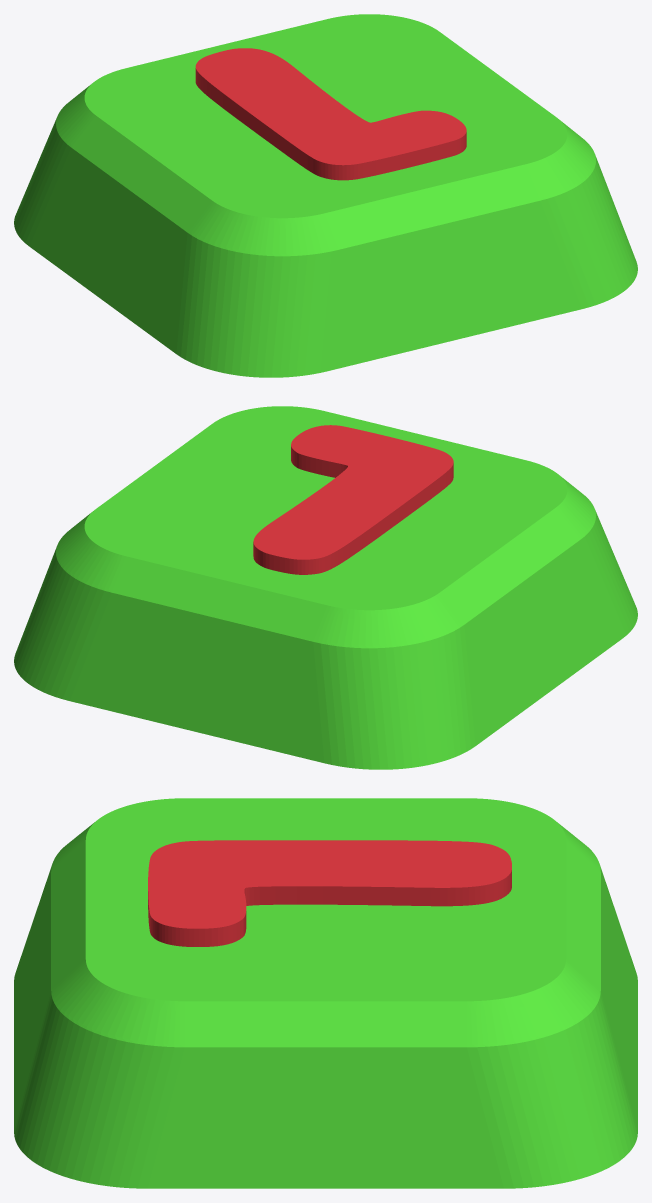
The picture shows the model from 3 angles, top to bottom: view 1: azimuth 30°, elevation 25°; view 2: azimuth 150°, elevation 25°; view 3: azimuth 270°, elevation 25°; orthographic projection. The views are drawn at different scales.
Parts seen in each view (by area): view 1: CAPS_L, FONT_L; view 2: CAPS_L, FONT_L; view 3: CAPS_L, FONT_L.
Part boxes in pixels (bbox=[...]): CAPS_L: bbox=[14, 14, 637, 377]; FONT_L: bbox=[195, 48, 466, 180]; CAPS_L: bbox=[14, 406, 637, 769]; FONT_L: bbox=[253, 425, 453, 574]; CAPS_L: bbox=[14, 798, 637, 1188]; FONT_L: bbox=[148, 840, 511, 946].
Size of the model in its own units: 18 by 5.59 by 18.
